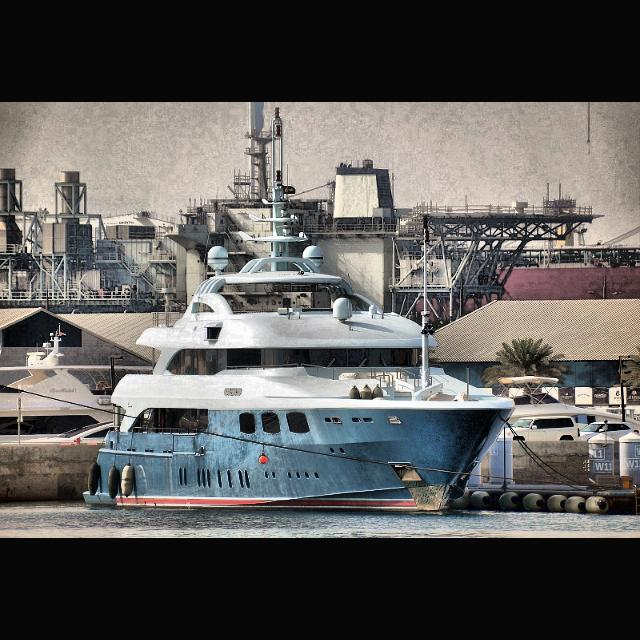yacht: (81, 242, 517, 518)
